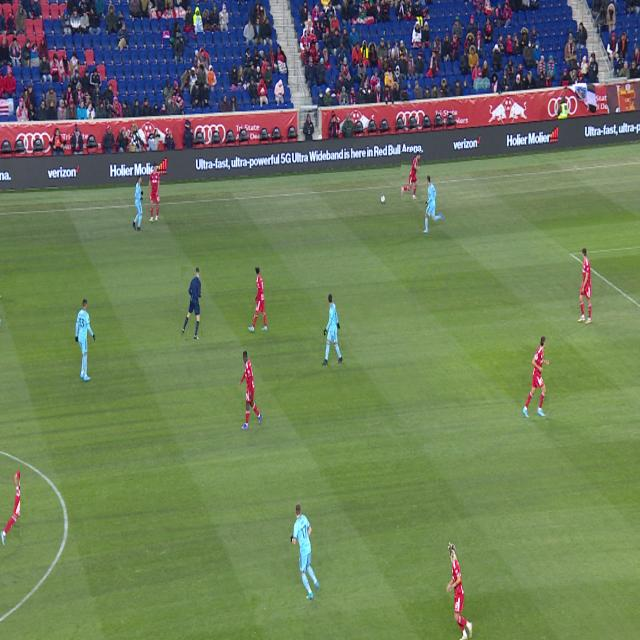football: (381, 196, 385, 203)
player: (291, 503, 320, 599), (446, 542, 473, 640), (523, 337, 549, 418), (239, 350, 262, 429), (75, 299, 95, 381), (0, 470, 20, 545), (322, 294, 342, 365), (423, 175, 445, 233), (248, 267, 267, 332), (578, 248, 591, 324), (401, 152, 421, 200), (148, 163, 160, 222), (133, 175, 143, 231)
referee: (182, 267, 201, 339)
